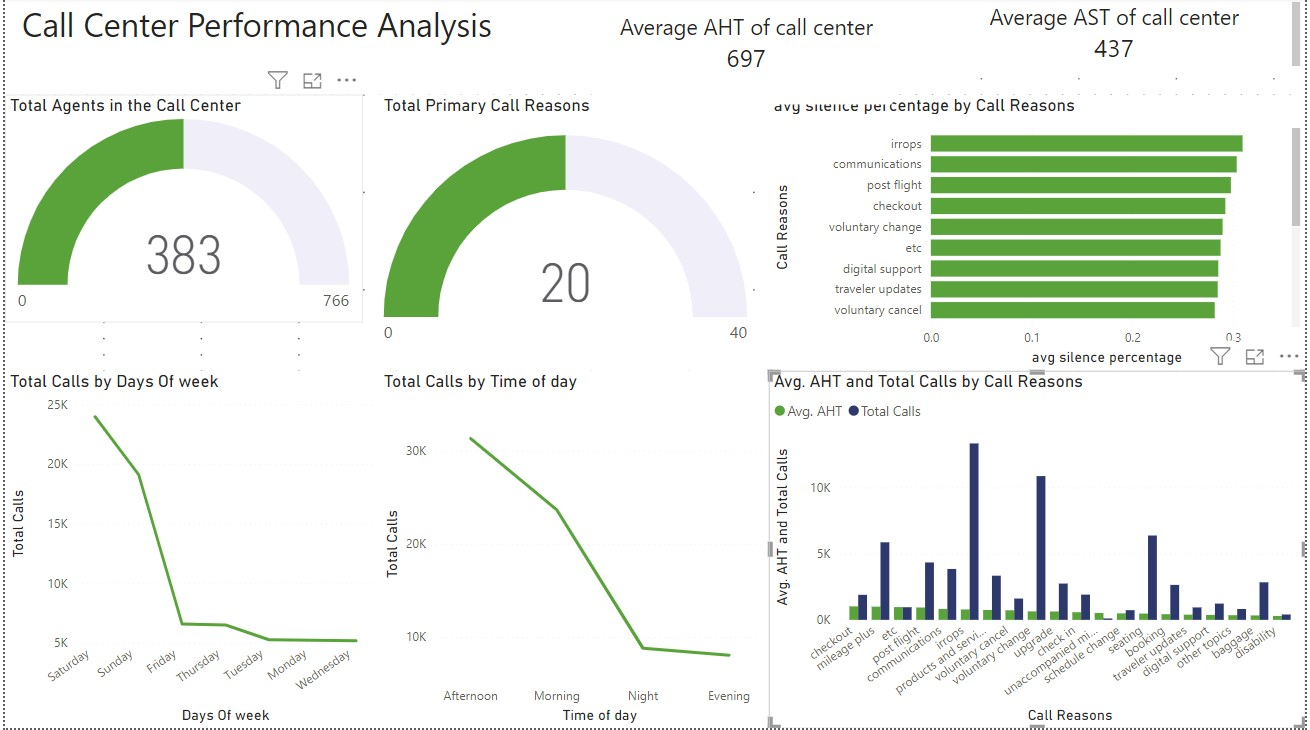

This screenshot's page, from the dashboard's own definition file:
{"tool":"powerbi","page":{"name":"Page 1","canvas":[1280,720],"ordinal":0},"visuals":[{"type":"clusteredColumnChart","fields":{"Category":["DASHBOARD 1.Column1"],"Y":["Sum(DASHBOARD 1.Column2)","Sum(DASHBOARD 1.Column3)"]},"box":[752,368,528,352],"z":0},{"type":"lineChart","fields":{"Y":["Sum(day wise dashboard.Column4)"],"Category":["day wise dashboard.Column1"]},"box":[368,368,384,352],"z":1000},{"type":"lineChart","fields":{"Category":["week day wise.Column1"],"Y":["Sum(week day wise.Column2)"]},"box":[0,368,368,352],"z":2000},{"type":"barChart","fields":{"Category":["sentiment analysis dashboard.Column1"],"Y":["Sum(sentiment analysis dashboard.Column2)"]},"box":[752,96,528,272],"z":3000},{"type":"gauge","fields":{"Y":["Sum(Count dashboard.Column1)"]},"box":[368,96,368,272],"z":3001},{"type":"textbox","box":[0,0,496,96],"z":3002},{"type":"gauge","fields":{"Y":["Sum(count agent.Column1)"]},"box":[0,96,352,224],"z":3003},{"type":"textbox","box":[576,0,288,96],"z":3004},{"type":"textbox","box":[586,10,288,96],"z":3005},{"type":"textbox","box":[912,0,368,80],"z":3006}]}

Visuals, with their boxes in screenshot pixels (x1, y1, x2, y2), scaled from the page's 1280x720 canvas onto the 1310x730 screenshot:
clusteredColumnChart - DASHBOARD 1.Column1 x Sum(DASHBOARD 1.Column2): 770:373:1309:729
lineChart - Sum(day wise dashboard.Column4) x day wise dashboard.Column1: 377:373:770:729
lineChart - week day wise.Column1 x Sum(week day wise.Column2): 0:373:377:729
barChart - sentiment analysis dashboard.Column1 x Sum(sentiment analysis dashboard.Column2): 770:97:1309:373
gauge - Sum(Count dashboard.Column1): 377:97:753:373
textbox: 0:0:508:97
gauge - Sum(count agent.Column1): 0:97:360:324
textbox: 590:0:884:97
textbox: 600:10:894:107
textbox: 933:0:1309:81
